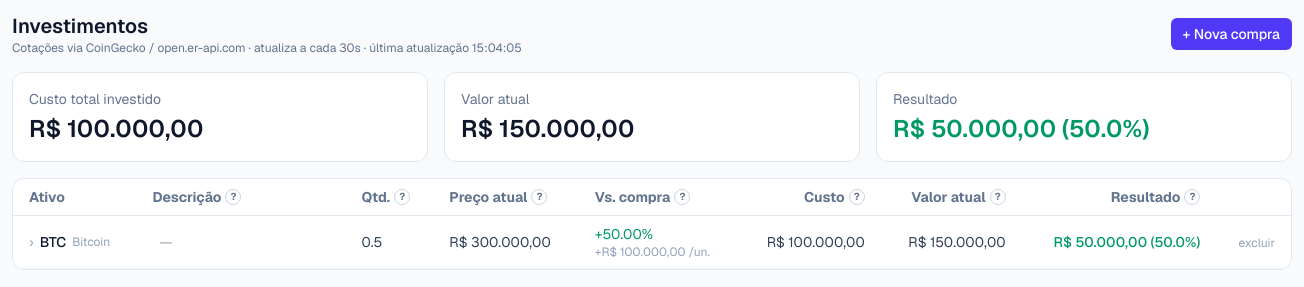
página /investimentos — exclusão do ativo › recarrega a lista depois de remover
The width and height of the screenshot is (1304, 287).
Check: the text "BTC" is shown, box [40,232,66,252]
Click the button "excluir" at point(1257, 243), box [1239,235,1275,251]
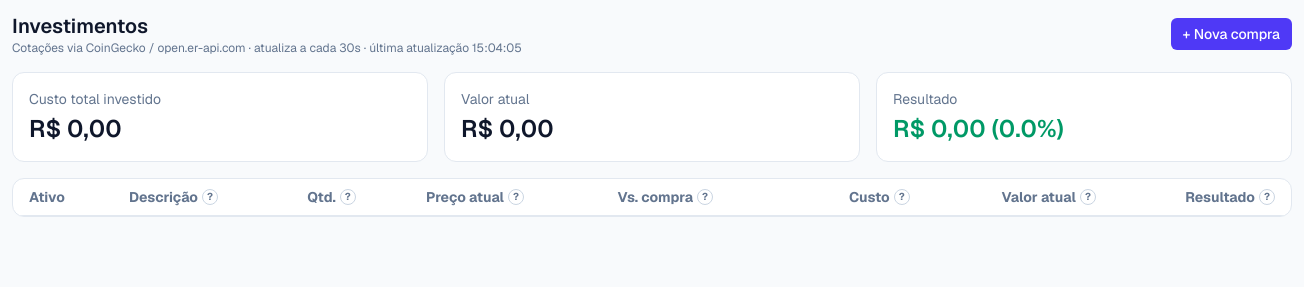
Check: the button "BTC" is gone
